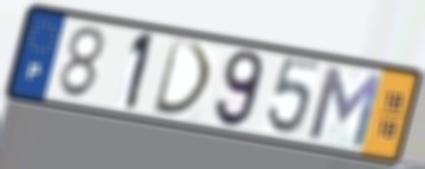1: (122, 29, 159, 114)
5: (263, 53, 324, 140)
8: (54, 24, 108, 102)
9: (212, 47, 266, 131)
D: (149, 36, 215, 119)
M: (306, 62, 386, 152)
